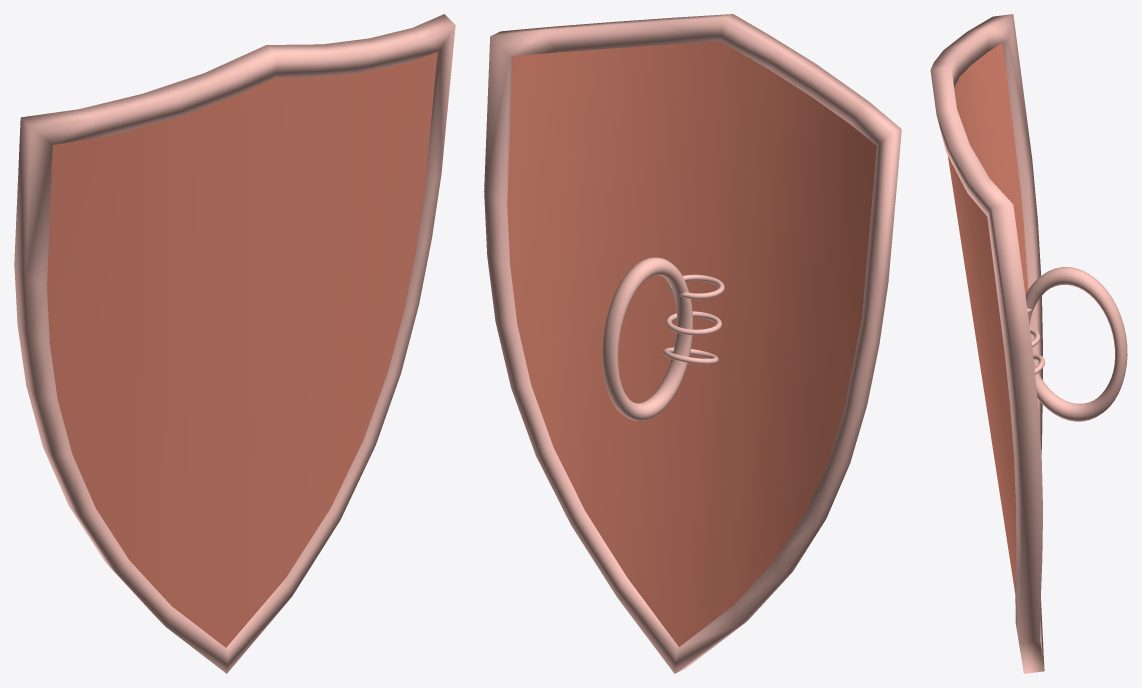
File: shield.fbx
3 views of the same model, side by side, from view 1: azimuth 30°, elevation 25°; view 2: azimuth 150°, elevation 25°; view 3: azimuth 270°, elevation 25° (orthographic). The views are drawn at different scales.
Visible parts, largest first — view 1: ramka_low.001; view 2: ramka_low.001; view 3: ramka_low.001.
Boxes of the visible parts, left/top/right/bottom form: ramka_low.001: left=14, top=14, right=455, bottom=673; ramka_low.001: left=484, top=14, right=901, bottom=673; ramka_low.001: left=930, top=14, right=1127, bottom=673.
Size of the model in its own units: 1006 by 1492 by 439.
